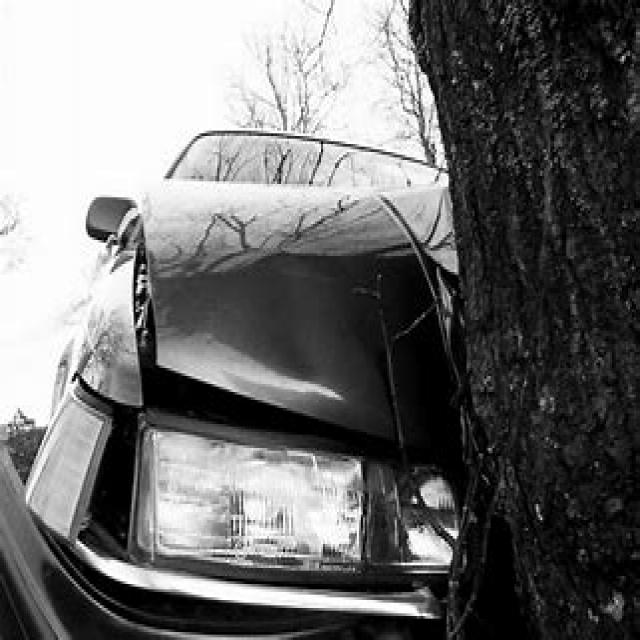Accident: (61, 124, 598, 546)
